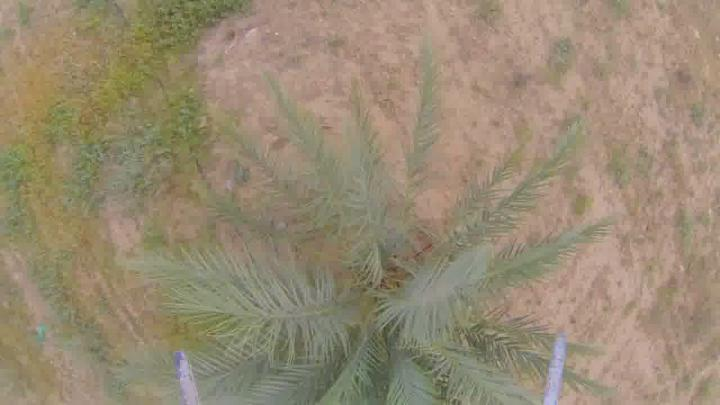Date-Palm-Crown: (253, 192, 526, 404)
